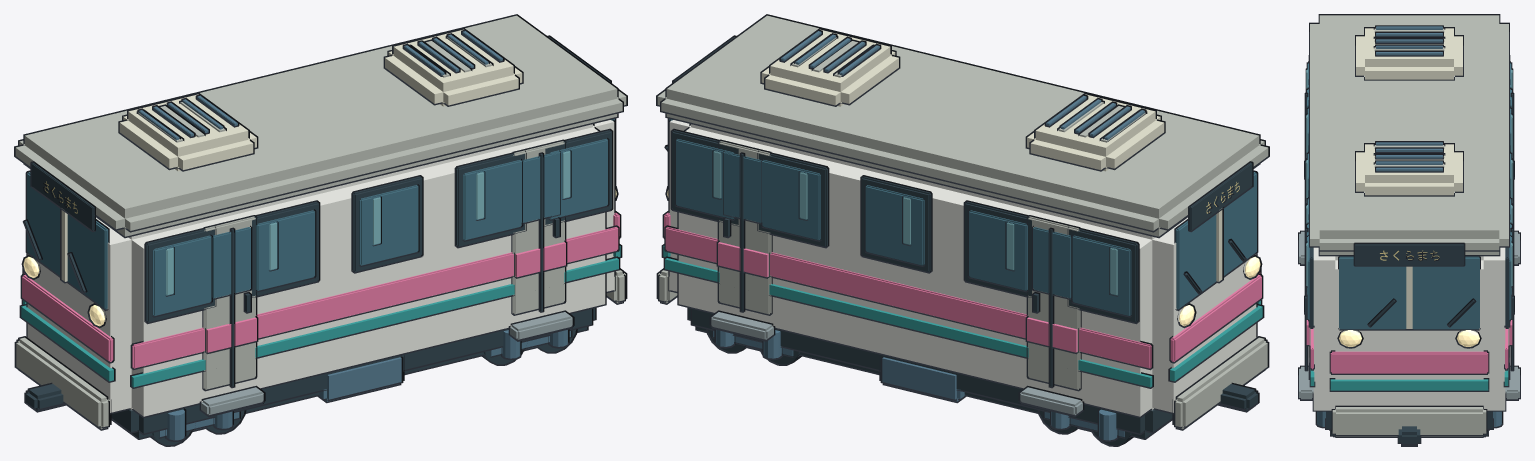
Rendered from Train.fbx.
3 views of the same model, side by side, from view 1: azimuth 30°, elevation 25°; view 2: azimuth 150°, elevation 25°; view 3: azimuth 270°, elevation 25° (orthographic). The views are drawn at different scales.
Visible parts, largest first — view 1: Train_Visual, NPR_Outline_Train_Visual; view 2: Train_Visual, NPR_Outline_Train_Visual; view 3: Train_Visual, NPR_Outline_Train_Visual.
Part boxes in pixels (<box>): Train_Visual: <box>15,15,626,445</box>; NPR_Outline_Train_Visual: <box>14,14,627,446</box>; Train_Visual: <box>657,15,1268,445</box>; NPR_Outline_Train_Visual: <box>656,14,1269,446</box>; Train_Visual: <box>1299,15,1519,445</box>; NPR_Outline_Train_Visual: <box>1298,14,1520,446</box>.
Size of the model in its own units: 432 by 205 by 163.
